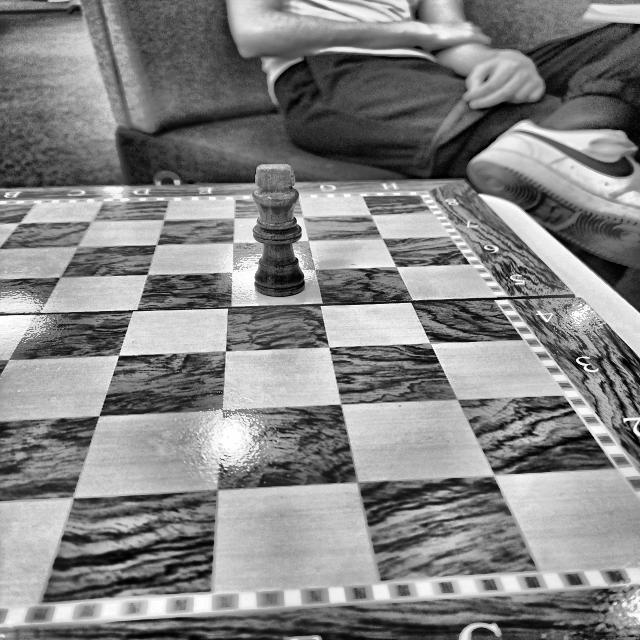black-king: (252, 164, 305, 297)
